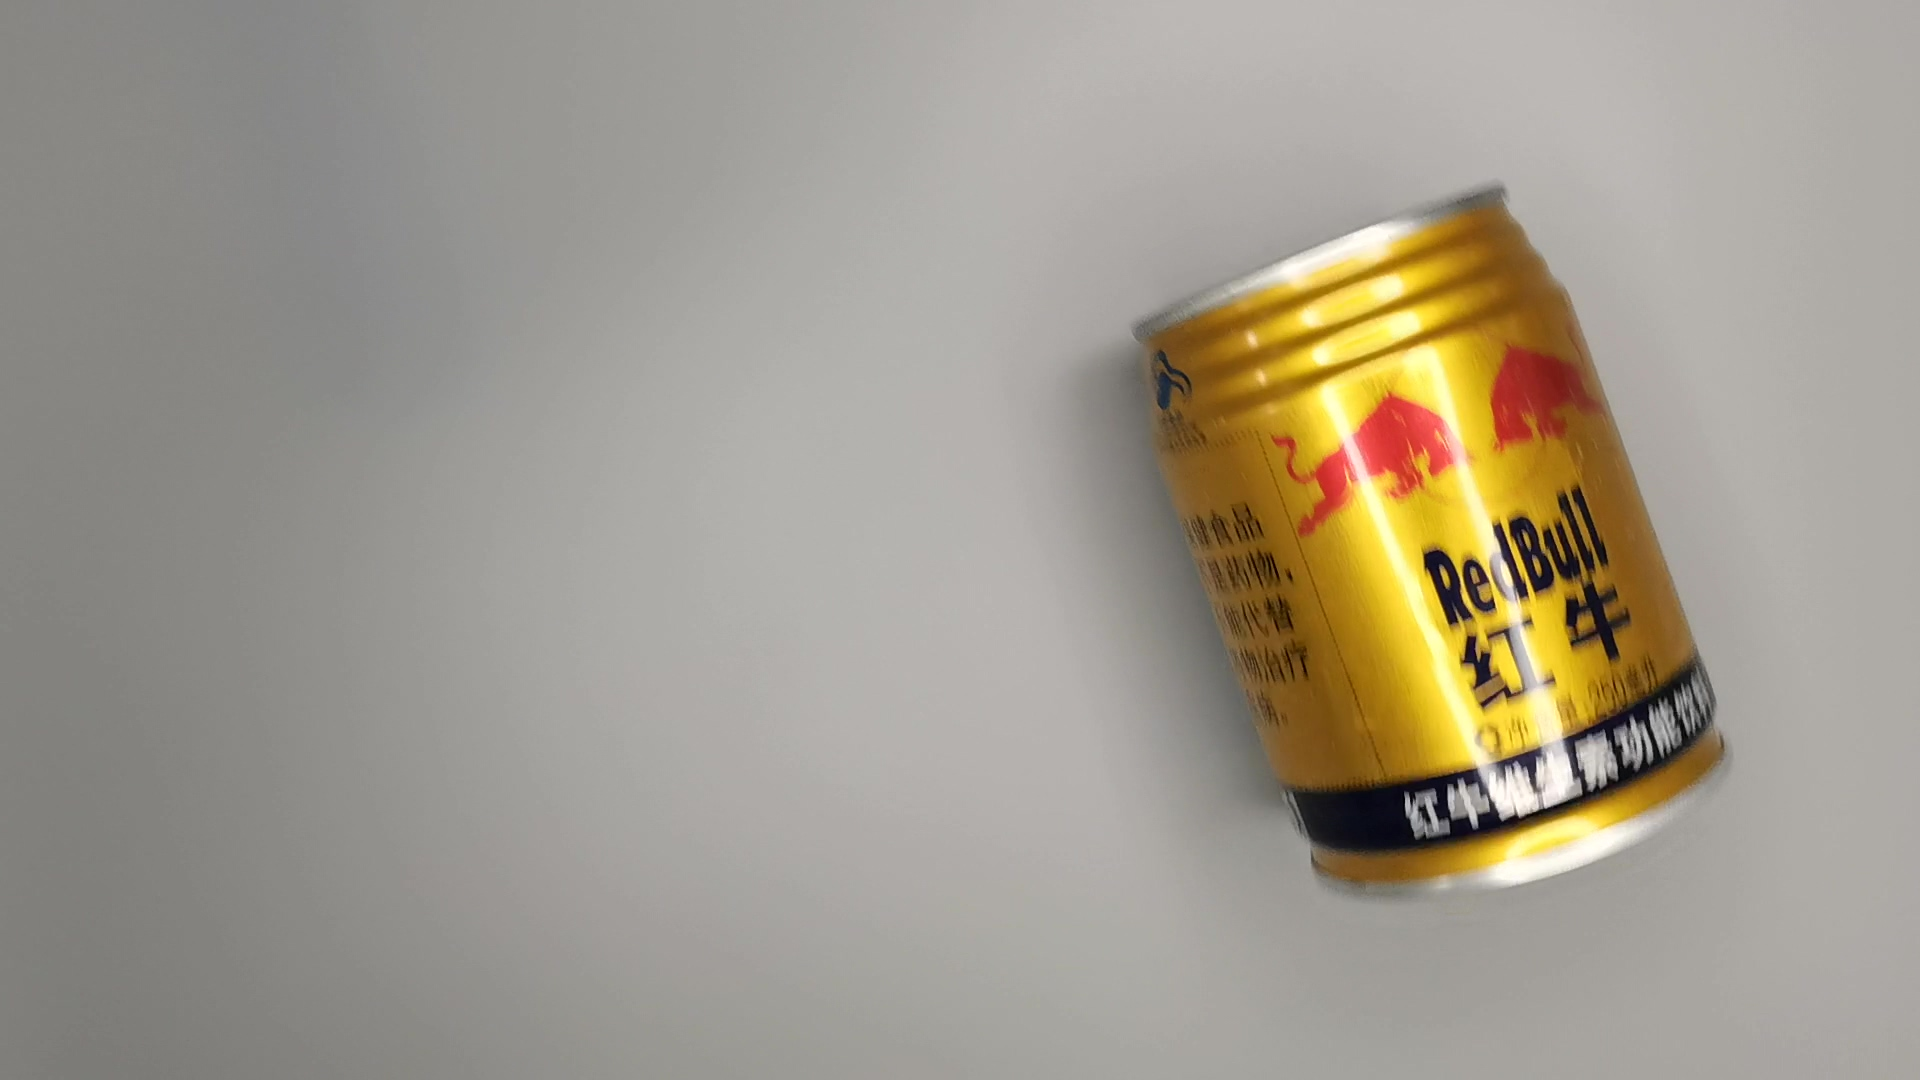can: (1122, 171, 1745, 924)
